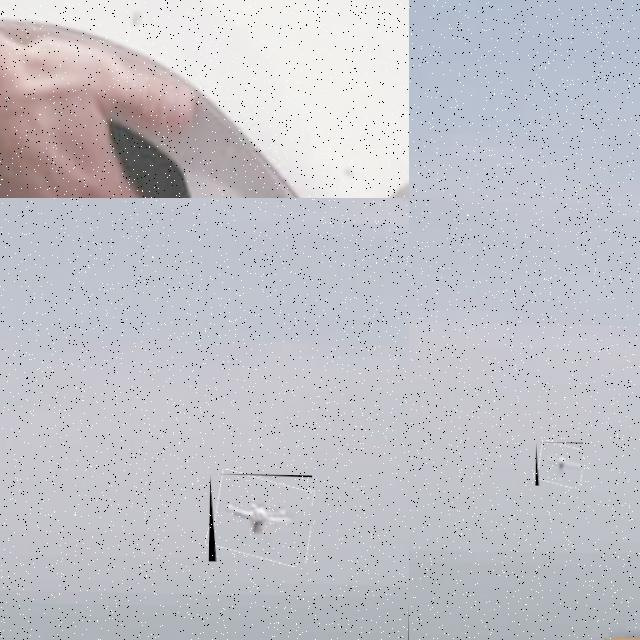drone: (0, 0, 409, 198), (208, 473, 312, 563), (535, 441, 582, 486)
